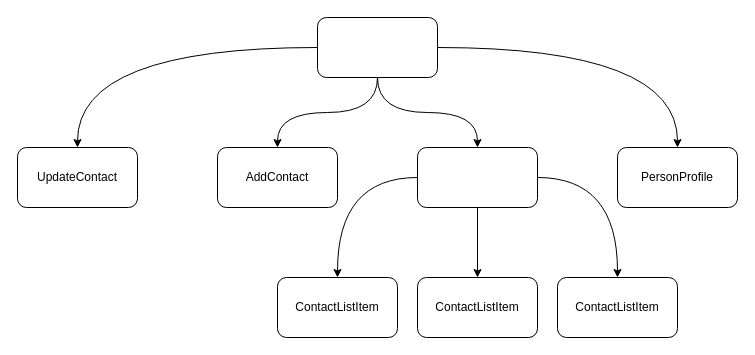
Some shapes in this 755 by 355 pixel diagram are drawn without their labels. Here are the shapes that lost their labels. From the top down, the centre of each, then its label:
the point at 377,47: App.jsx
the point at 477,177: ContactList
